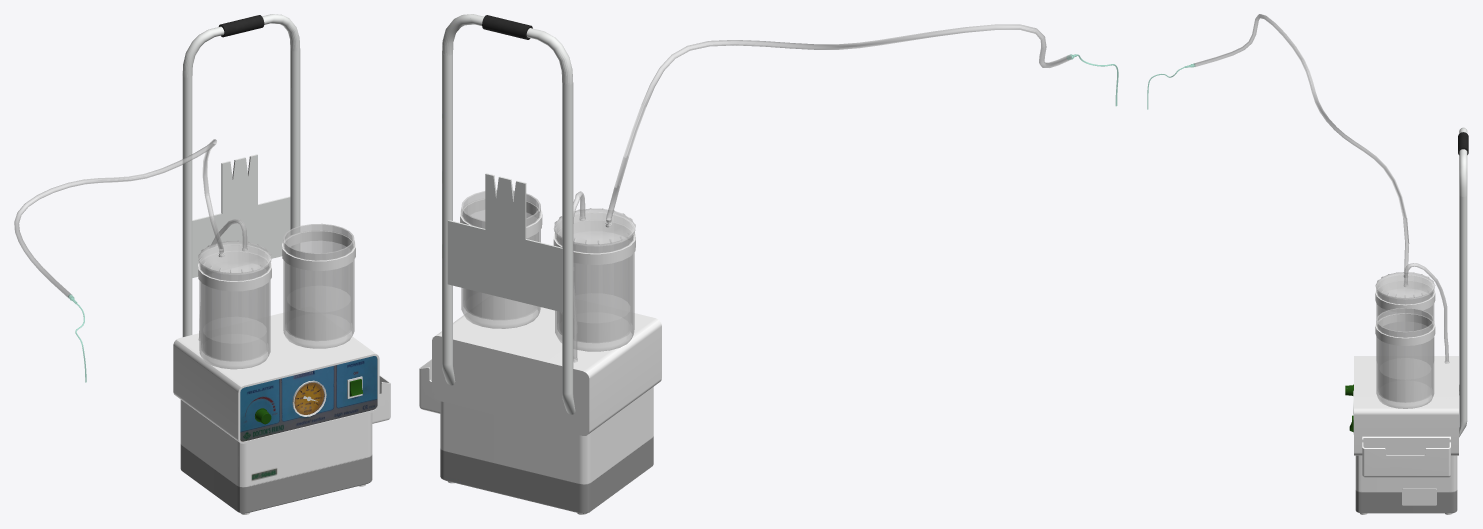
File: hutdomdai.fbx
The picture shows the model from 3 angles, left to right: view 1: azimuth 30°, elevation 25°; view 2: azimuth 150°, elevation 25°; view 3: azimuth 270°, elevation 25°; orthographic projection. The views are drawn at different scales.
Parts seen in each view (by area): view 1: than_may, thungnuoc, daynoi; view 2: than_may, thungnuoc, daynoi; view 3: than_may, thungnuoc, daynoi.
Part boxes in pixels (bbox=[...]): than_may: bbox=[173, 14, 390, 514]; thungnuoc: bbox=[198, 219, 354, 369]; daynoi: bbox=[14, 139, 223, 298]; than_may: bbox=[419, 14, 661, 514]; thungnuoc: bbox=[461, 189, 635, 362]; daynoi: bbox=[606, 24, 1071, 223]; than_may: bbox=[1345, 127, 1468, 514]; thungnuoc: bbox=[1375, 263, 1449, 408]; daynoi: bbox=[1194, 14, 1409, 274].
Bounding box in the file's own units: 48.85 × 45.76 × 38.02.
Materials: 3 (1 with a texture image).
